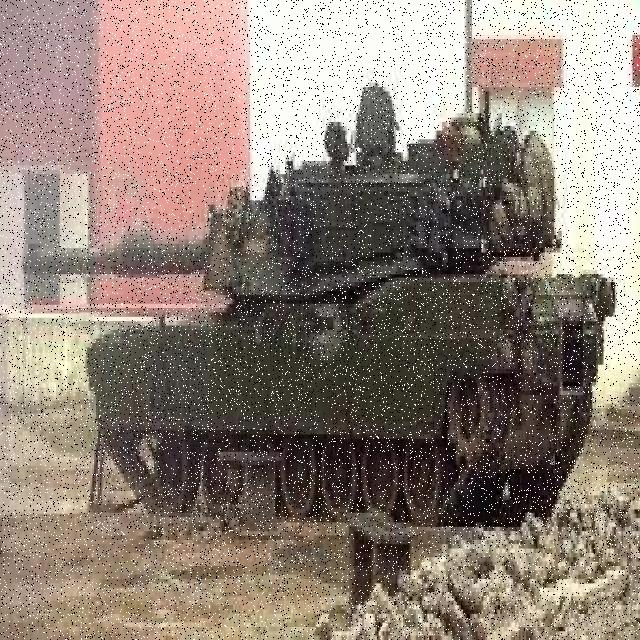MIL_MBT: (79, 277, 618, 519)
